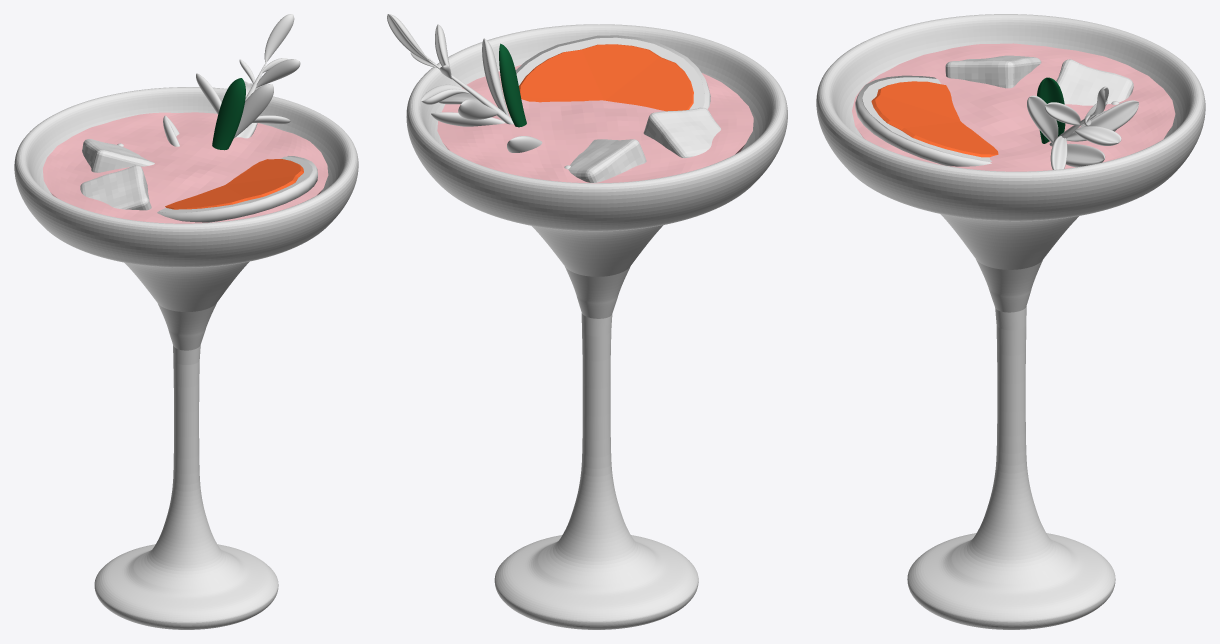
Rendered from Grapefruit Sparkler.fbx.
3 renders of one model, left to right at view 1: azimuth 30°, elevation 25°; view 2: azimuth 150°, elevation 25°; view 3: azimuth 270°, elevation 25°, orthographic. The views are drawn at different scales.
Visible parts, largest first — view 1: Torus, Circle, Circle.001, Roundcube, Circle.003, NurbsPath, Roundcube.002, NurbsPath.004, Circle.002, NurbsPath.008, NurbsPath.007; view 2: Torus, Circle, Circle.001, Roundcube, Roundcube.002, Circle.002, NurbsPath, NurbsPath.004, Circle.003, NurbsPath.008, NurbsPath.003, NurbsPath.005 (+1 smaller); view 3: Torus, Circle, Circle.001, Roundcube.002, Roundcube, Circle.003, Circle.002, NurbsPath.005, NurbsPath.004, NurbsPath.003, NurbsPath, NurbsPath.006 (+1 smaller).
Boxes of the visible parts, box(x1,y1,x2,y2) form: Torus: box(14, 87, 358, 629); Circle: box(43, 112, 328, 223); Circle.001: box(165, 159, 303, 209); Roundcube: box(80, 165, 151, 210); Circle.003: box(157, 156, 317, 222); NurbsPath: box(212, 78, 245, 150); Roundcube.002: box(82, 139, 154, 172); NurbsPath.004: box(233, 84, 273, 138); Circle.002: box(158, 156, 312, 212); NurbsPath.008: box(264, 14, 294, 62); NurbsPath.007: box(256, 59, 300, 87); Torus: box(406, 24, 787, 629); Circle: box(437, 64, 753, 183); Circle.001: box(519, 44, 693, 111); Roundcube: box(643, 107, 720, 158); Roundcube.002: box(568, 139, 646, 182); Circle.002: box(516, 37, 704, 109); NurbsPath: box(499, 43, 526, 127); NurbsPath.004: box(482, 38, 508, 115); Circle.003: box(515, 35, 710, 109); NurbsPath.008: box(387, 14, 428, 60); NurbsPath.003: box(431, 112, 505, 126); NurbsPath.005: box(458, 99, 498, 119); Torus: box(816, 14, 1205, 629); Circle: box(852, 43, 1175, 171); Circle.001: box(871, 81, 998, 157); Roundcube.002: box(1056, 59, 1133, 105); Roundcube: box(945, 55, 1041, 88); Circle.003: box(855, 75, 991, 166); Circle.002: box(862, 77, 991, 161); NurbsPath.005: box(1066, 100, 1138, 141); NurbsPath.004: box(1027, 95, 1058, 143); NurbsPath.003: box(1066, 143, 1104, 167); NurbsPath: box(1037, 77, 1065, 143); NurbsPath.006: box(1074, 126, 1121, 145).
Bounding box in the file's own units: 370 × 610 × 370.
